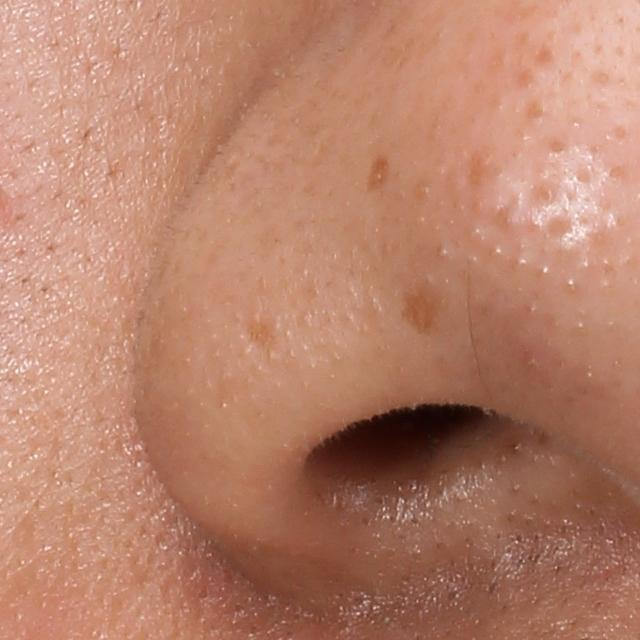melasma: (399, 285, 439, 335), (366, 147, 393, 194), (250, 311, 277, 354)
